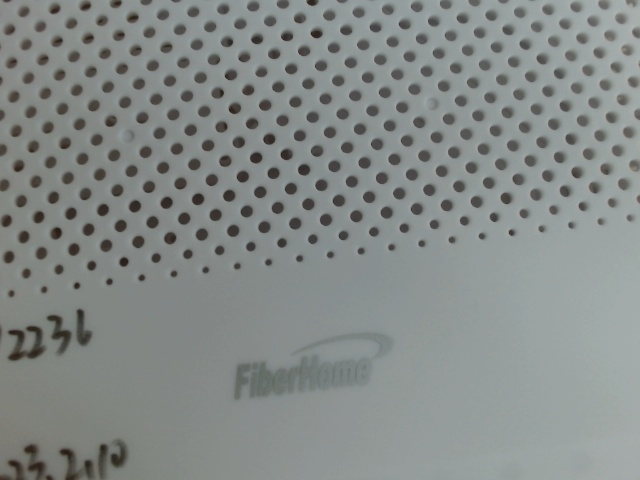AI_FiberHome: (211, 324, 420, 403)
